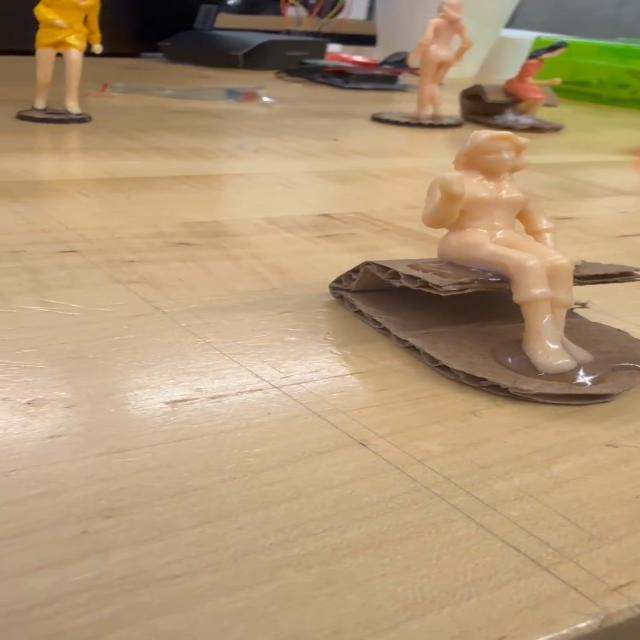Unauthorized: (427, 130, 597, 372)
